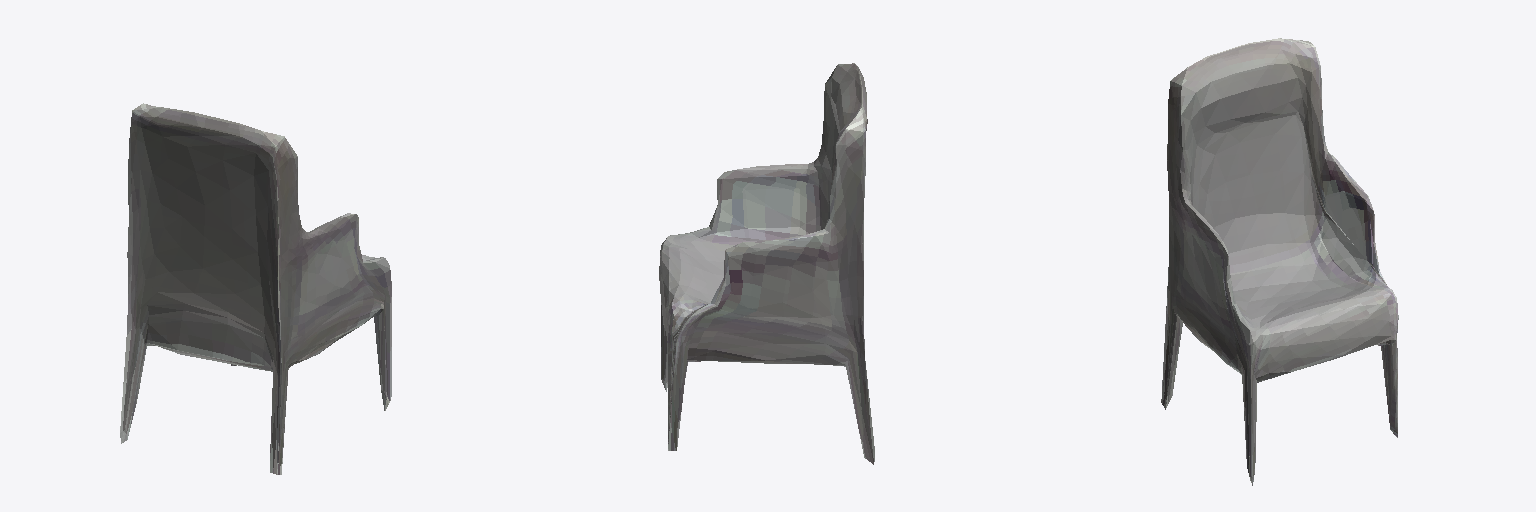
3 views of the same model, side by side, from view 1: azimuth 30°, elevation 25°; view 2: azimuth 150°, elevation 25°; view 3: azimuth 270°, elevation 25° (orthographic).
Size of the model in its own units: 0.7301 by 1 by 0.6167.
Materials: 1 (1 with a texture image).